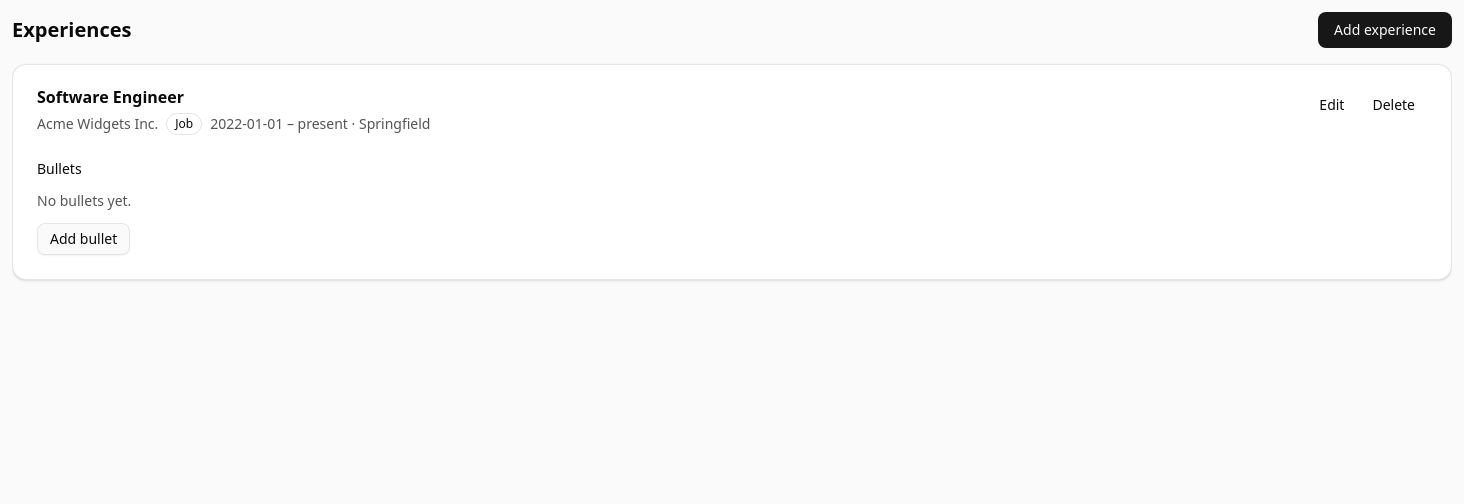
Test: ExperienceEditor › edits an experience with a full replacement
Click the button "Edit" at [1332, 105], box [1307,89,1356,121]
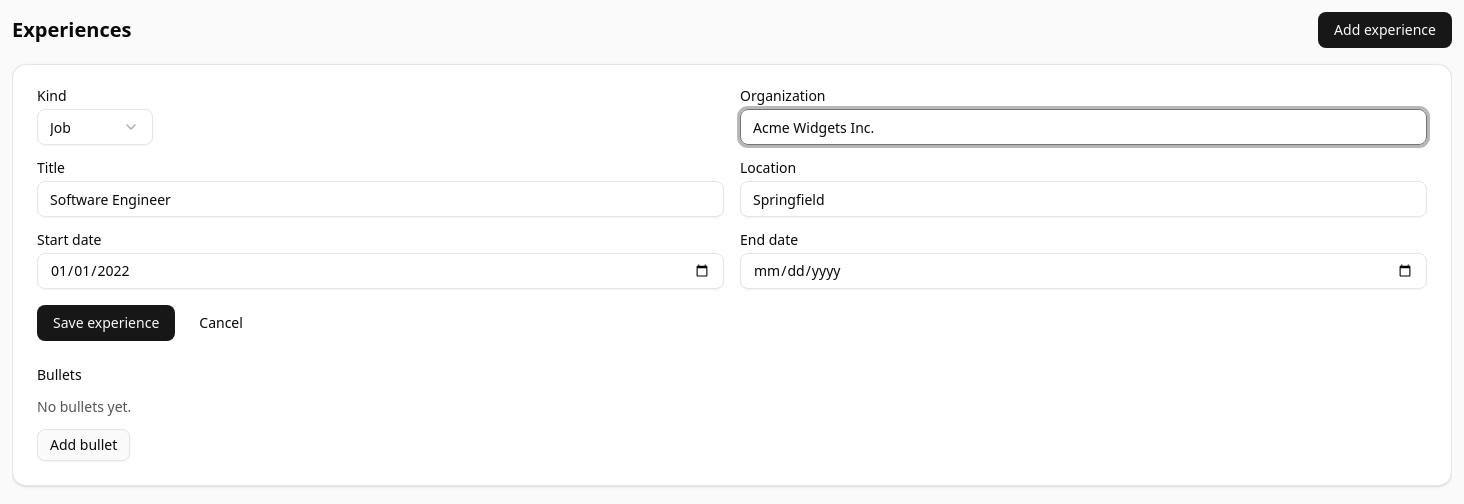
Replace the text in the field labelled "Title" with "Senior Engineer" at [380, 199], box [37,181,724,217]
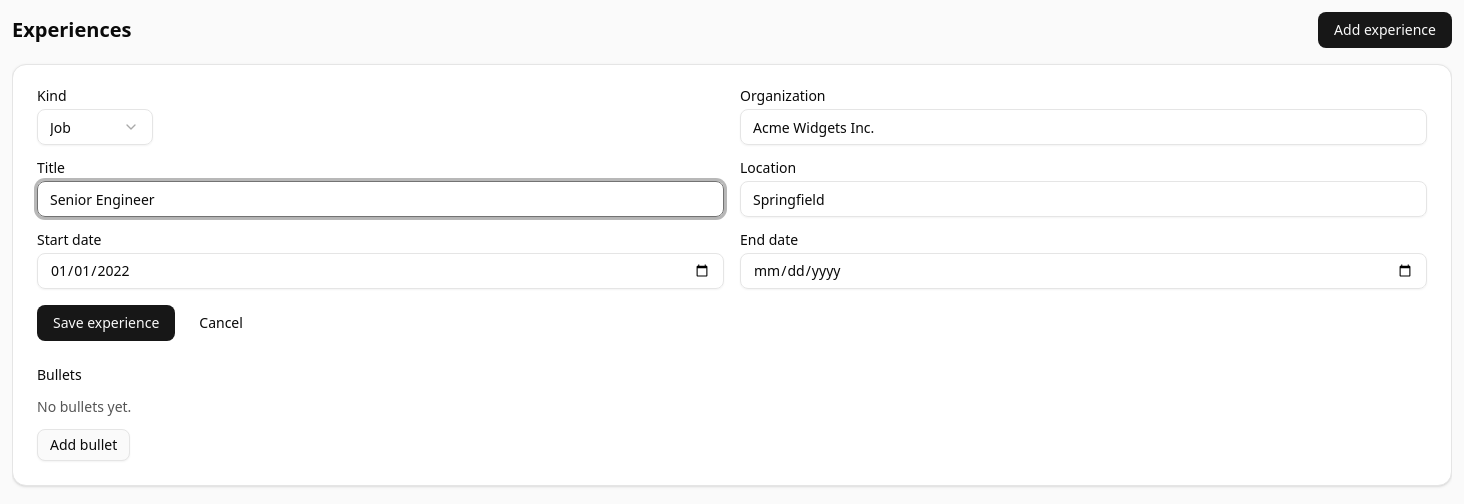
Type "2024-06-30" into the date field labelled "End date" at [1084, 271], box [740,253,1427,289]
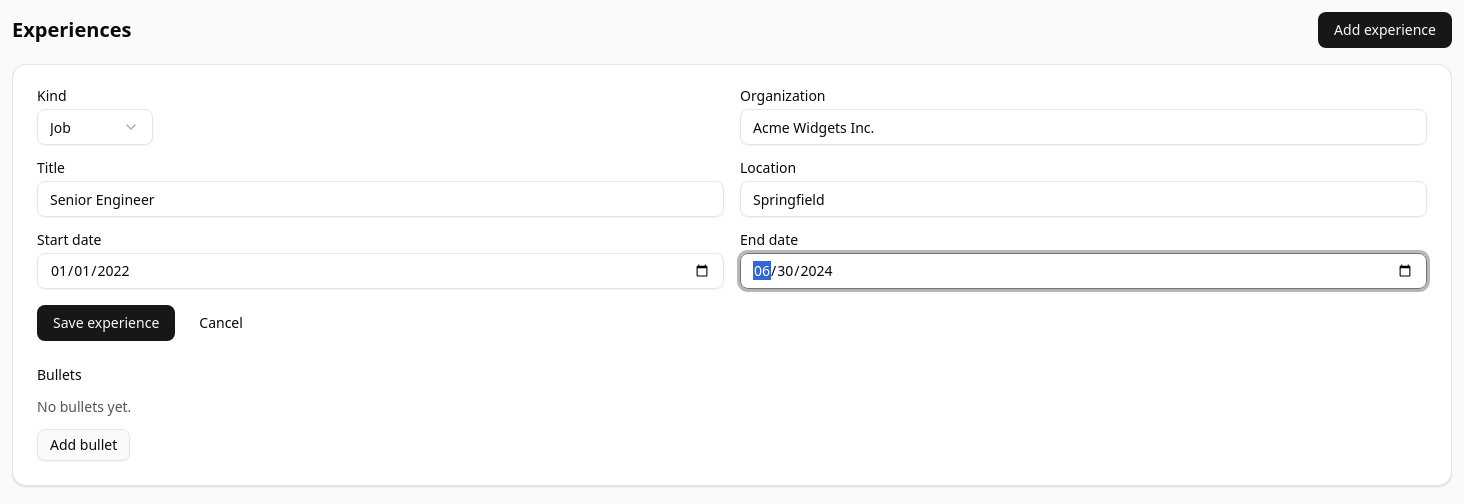
Click the button "Save experience" at [106, 323], box [37,305,175,341]
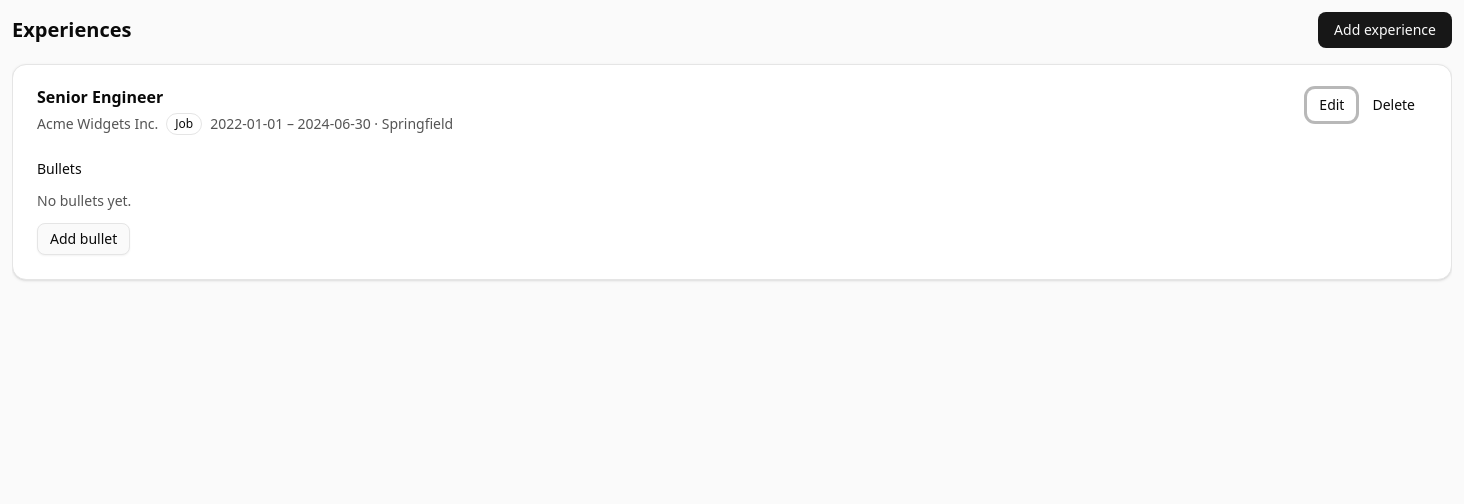
Expected: the element named "Senior Engineer at Acme Widgets Inc." is shown, [12,64,1452,280]
